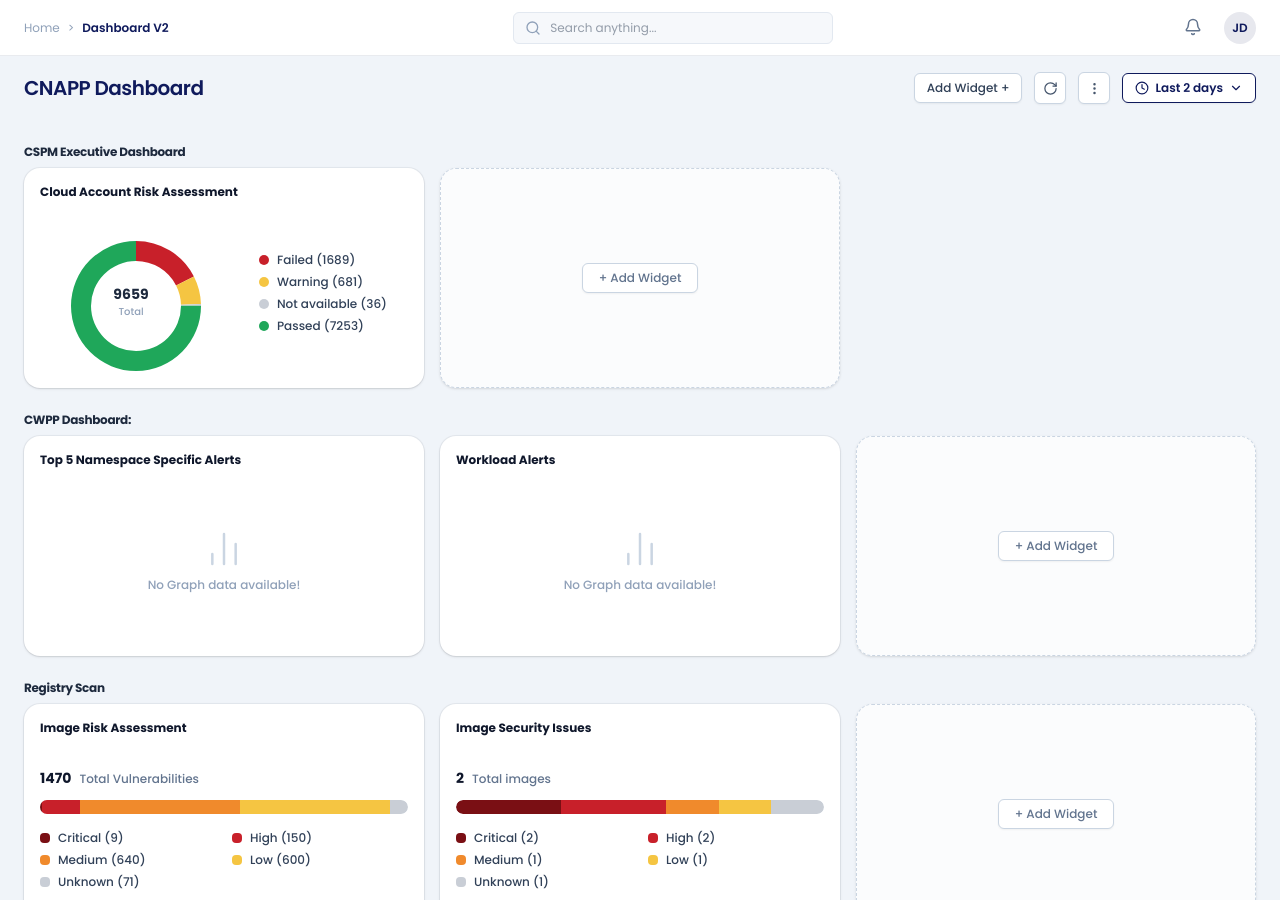
Test: Dashboard Search (Phase 8b) › removed (inactive) widgets are never shown by dashboard search
The image size is (1280, 900).
Earlier steps of the test are not shown.
Type "Cloud Accounts" into the search field named "Search dashboard widgets" at [673, 28], box top-left (513, 12), bottom-right (833, 44)
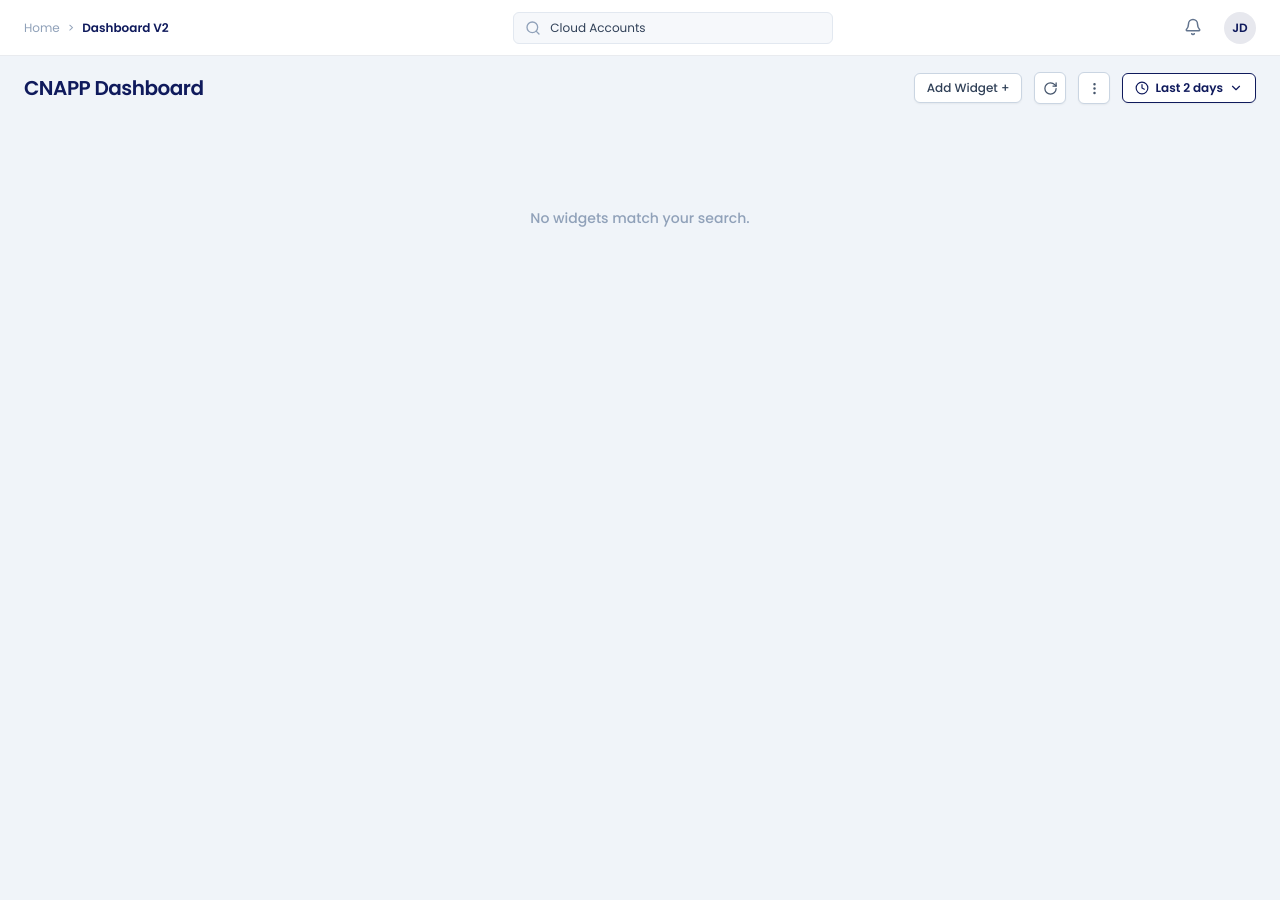
Expected: the text "No widgets match your search." is shown, top-left (530, 208), bottom-right (750, 228)
